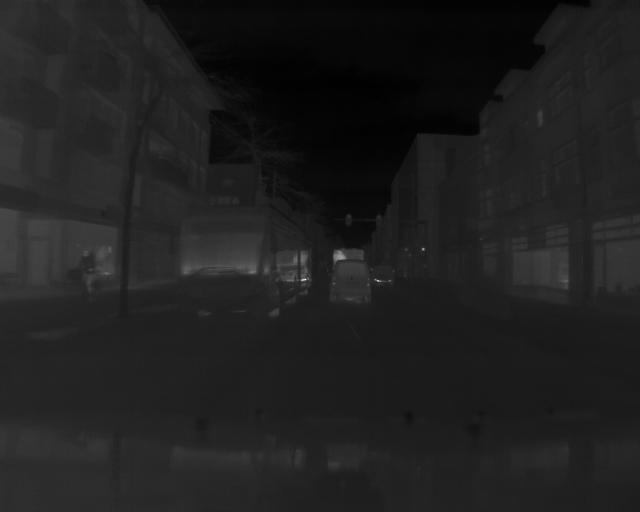car: (180, 208, 315, 318), (329, 260, 374, 304), (370, 262, 394, 287)
person: (78, 247, 94, 302)
